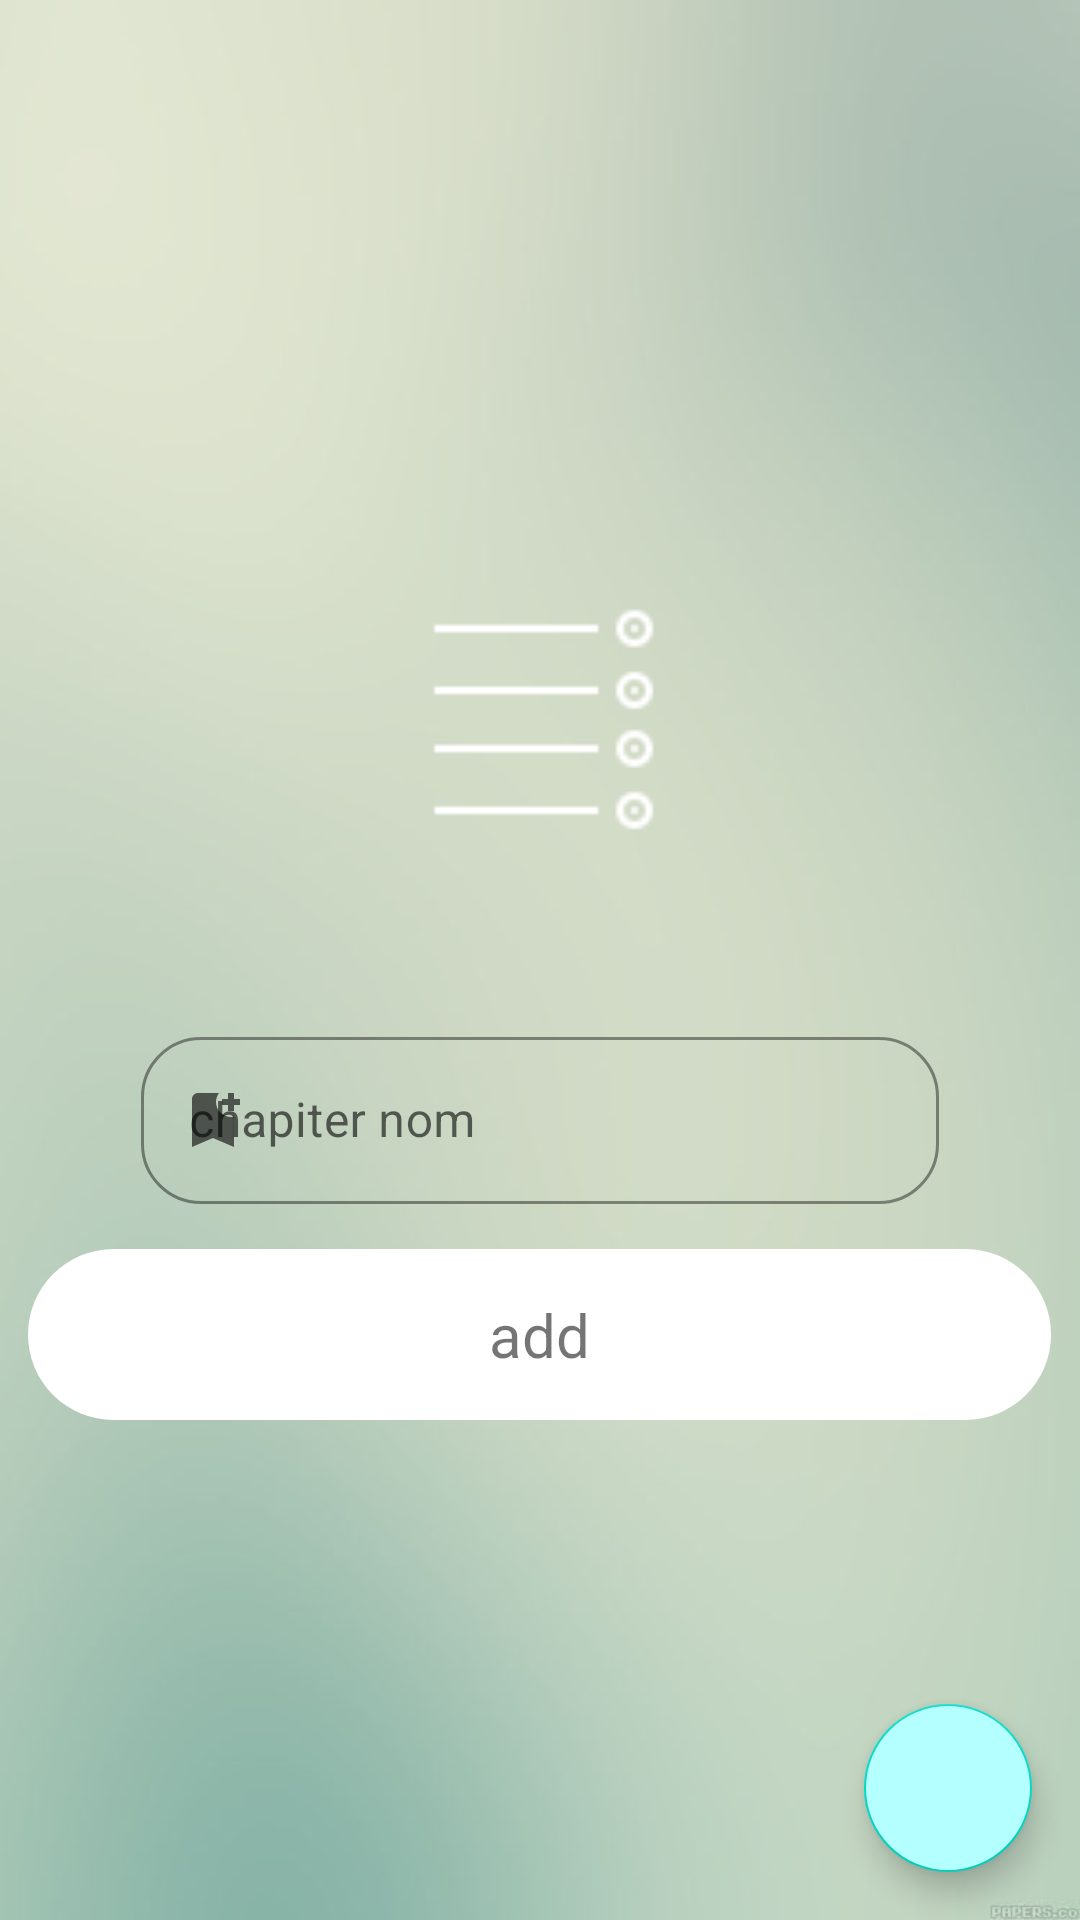

Point at icon controls on the screen. Image size 1080 x 1920, points as point (x, y).
iconschapitre: point (543, 719)
